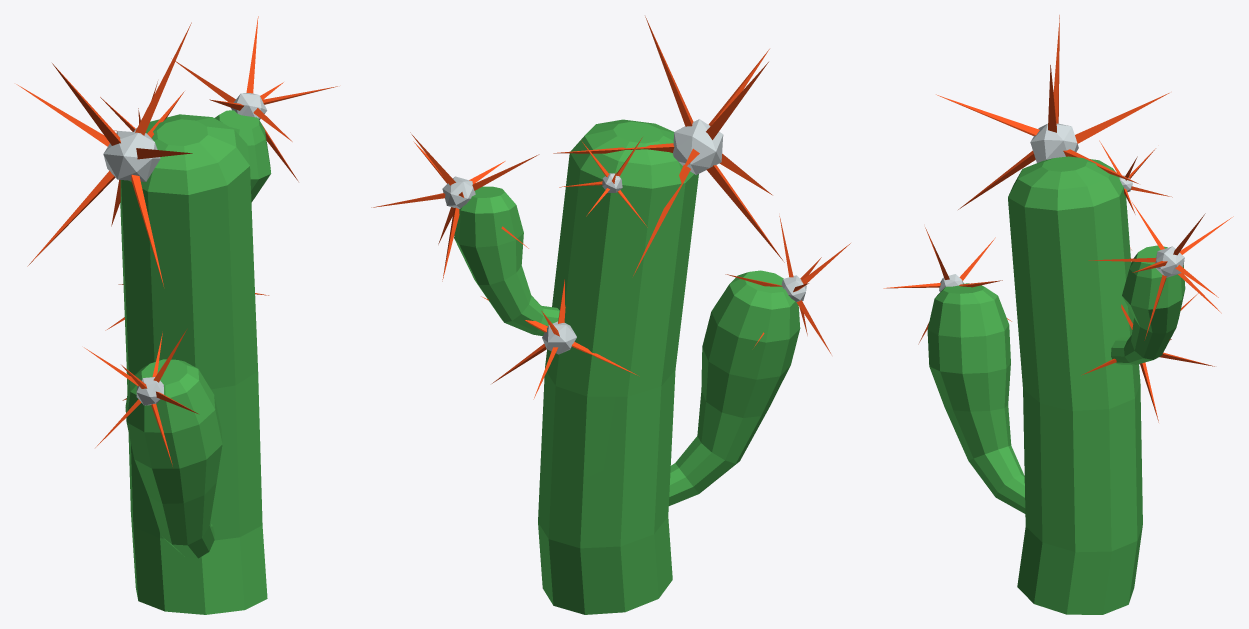
File: cactus.glb
The picture shows the model from 3 angles, left to right: view 1: azimuth 30°, elevation 25°; view 2: azimuth 150°, elevation 25°; view 3: azimuth 270°, elevation 25°; orthographic projection. The views are drawn at different scales.
Visible parts, largest first — view 1: Cube; view 2: Cube; view 3: Cube.
Part boxes in pixels (box(x1,y1,x2,y2)): Cube: box(16, 16, 337, 614); Cube: box(371, 16, 850, 614); Cube: box(883, 15, 1233, 614).
Size of the model in its own units: 1.7 by 2.75 by 1.7.
